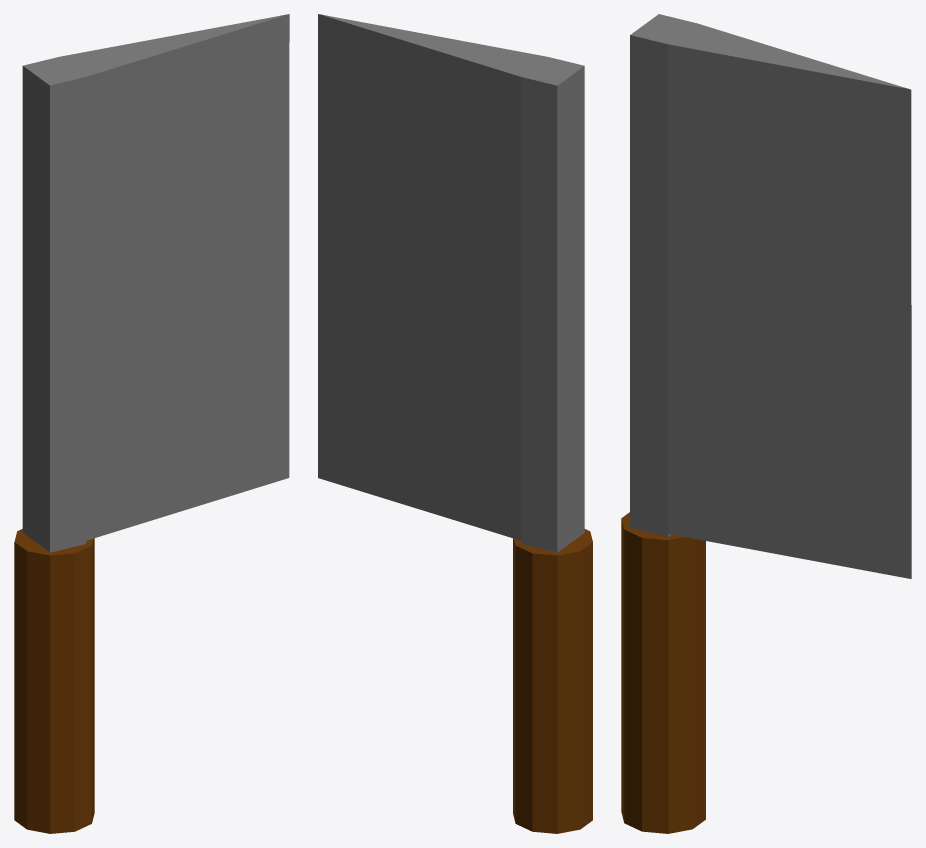
File: ButcherKnife.fbx
3 renders of one model, left to right at view 1: azimuth 30°, elevation 25°; view 2: azimuth 150°, elevation 25°; view 3: azimuth 330°, elevation 25°, orthographic. The views are drawn at different scales.
Parts seen in each view (by area): view 1: blade; view 2: blade; view 3: blade.
Boxes of the visible parts, left/top/right/bottom form: blade: left=14, top=14, right=289, bottom=833; blade: left=318, top=14, right=592, bottom=833; blade: left=621, top=14, right=911, bottom=833.
Bounding box in the file's own units: 15.15 × 40.17 × 4.
Materials: 2 (2 with a texture image).
